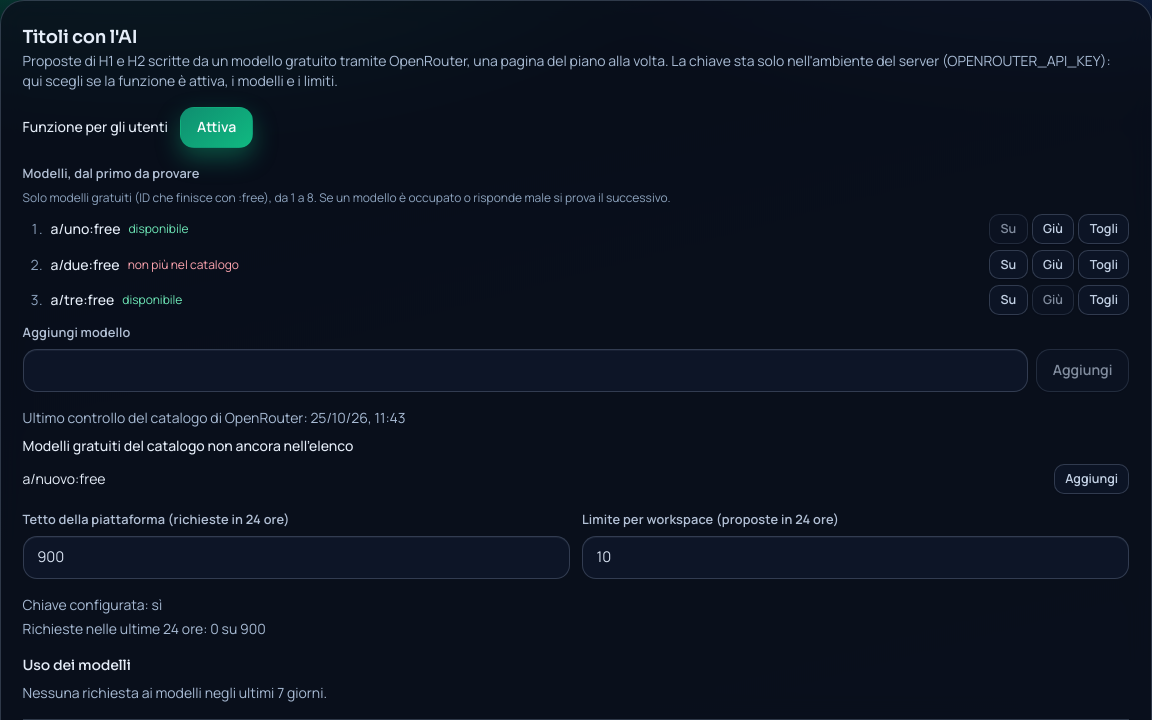
Test: elenco dei modelli nella card › «Giù» sul primo modello lo sposta al secondo posto e il salvataggio invia il nuovo ordine
Click the button "Giù" in the row of "a/uno:free": (1053, 229) [1032,214,1074,244]
(page scrolled)
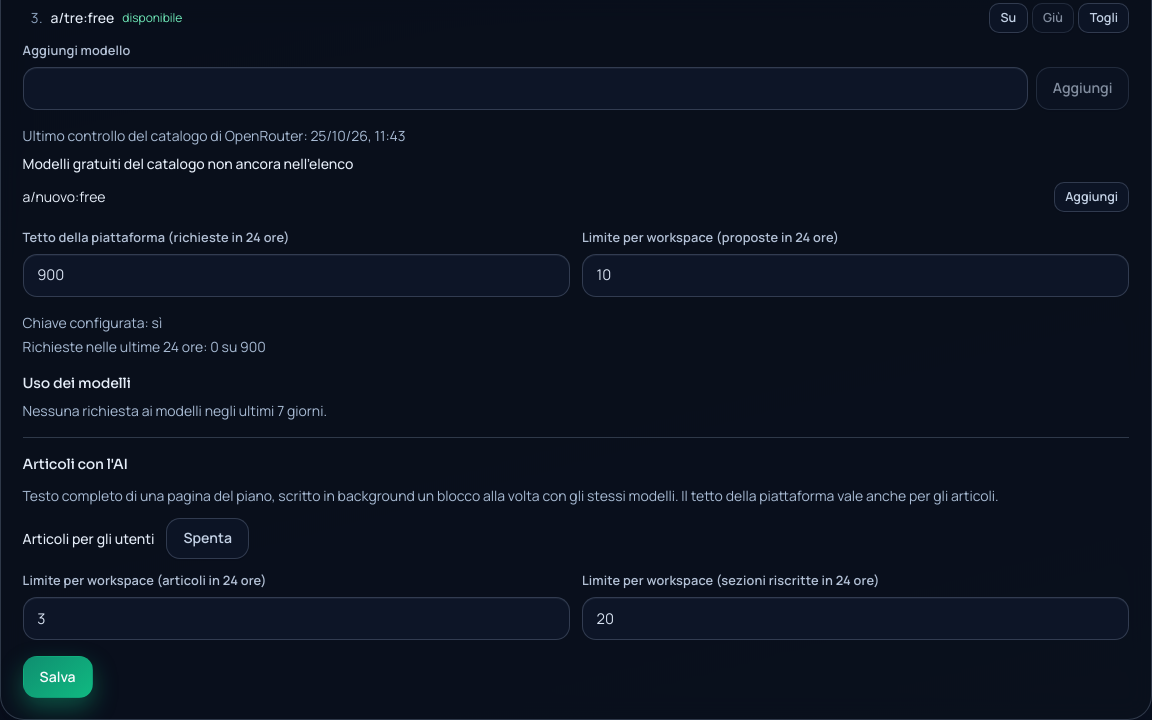
Click the button "Salva": (58, 677) [23,656,93,698]
(page scrolled)
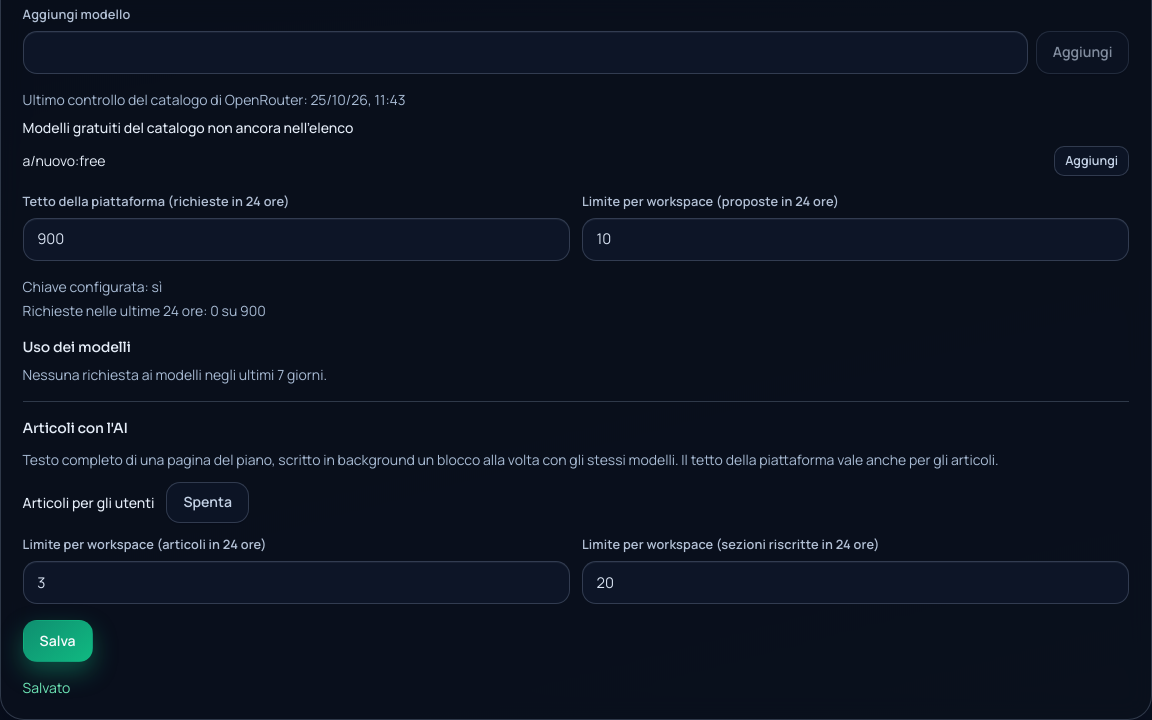
Result: the text "Salvato" is shown at [23,678,70,697]
